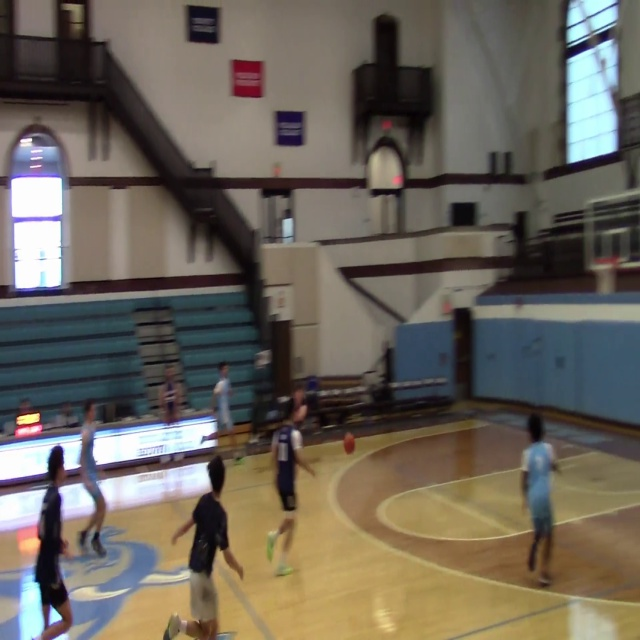Basketball: (343, 432, 355, 454)
